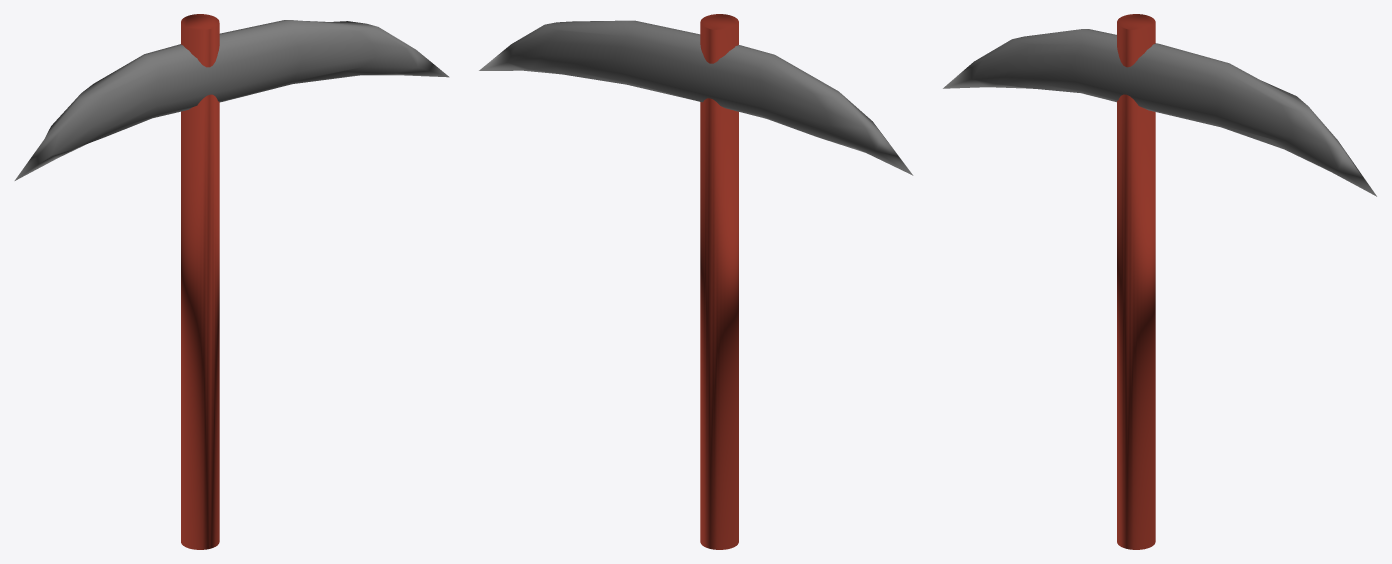
Rendered from pickaxe.glb.
3 views of the same model, side by side, from view 1: azimuth 30°, elevation 25°; view 2: azimuth 150°, elevation 25°; view 3: azimuth 330°, elevation 25° (orthographic).
Parts seen in each view (by area): view 1: Куб; view 2: Куб; view 3: Куб.
Boxes of the visible parts, left/top/right/bottom form: Куб: left=14, top=14, right=449, bottom=549; Куб: left=479, top=14, right=913, bottom=549; Куб: left=943, top=14, right=1376, bottom=549.
Bounding box in the file's own units: 1.34 × 1.53 × 0.1181.
